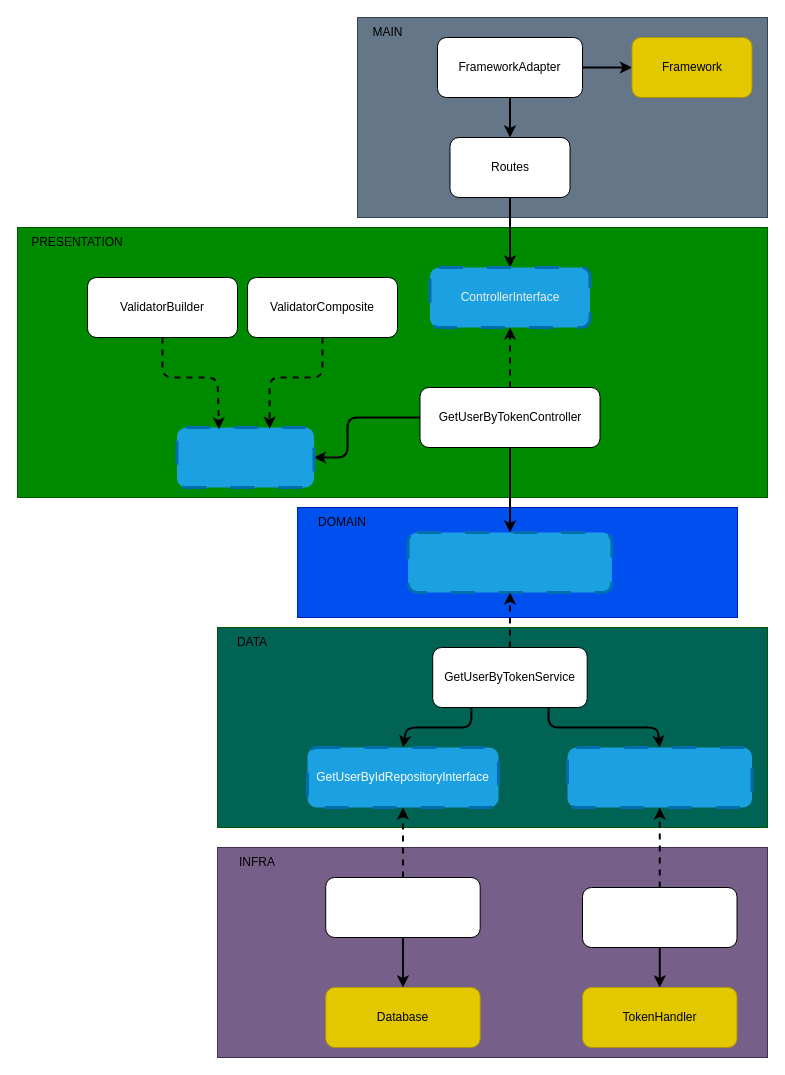
Image size: 785x1075. Some labels were removed from this diagram. The centre of each missing label's shape, as x and y in pixels:
"GetUserByTokenServiceInterface" belongs at (509,562).
"TokenDecrypterInterface" belongs at (659,777).
"TokenHandlerAdapter" belongs at (659,917).
"UserRepository" belongs at (402,907).
"ValidatorInterface" belongs at (245,457).
